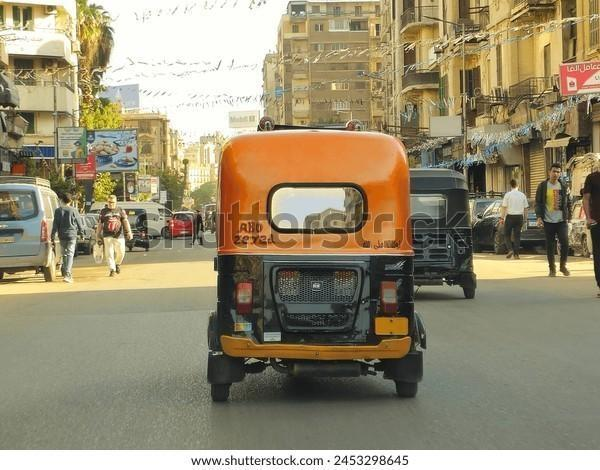keke: (202, 126, 429, 420), (404, 167, 481, 309)
